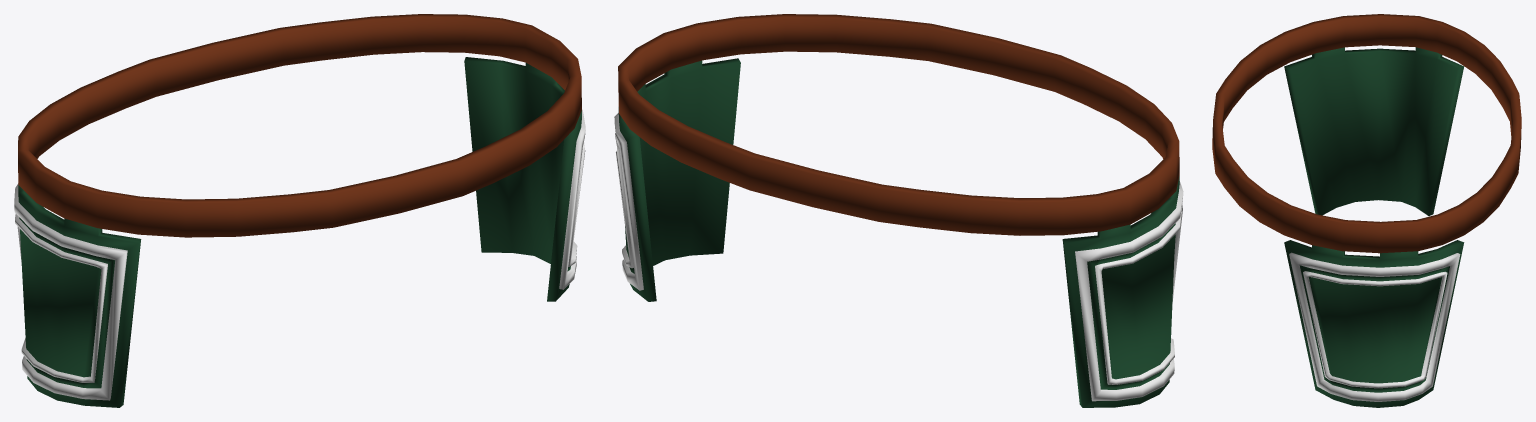
The model's file is mallar.fbx.
3 views of the same model, side by side, from view 1: azimuth 30°, elevation 25°; view 2: azimuth 150°, elevation 25°; view 3: azimuth 270°, elevation 25° (orthographic). The views are drawn at different scales.
Parts seen in each view (by area): view 1: Cinturon, mallar; view 2: Cinturon, mallar; view 3: mallar, Cinturon.
Boxes of the visible parts, x1,y1,x2,y2 form: Cinturon: (18, 14, 581, 237); mallar: (14, 57, 585, 407); Cinturon: (618, 14, 1179, 235); mallar: (614, 58, 1183, 407); mallar: (1284, 47, 1464, 407); Cinturon: (1212, 14, 1521, 253).
Size of the model in its own units: 151 by 60.03 by 92.12.
